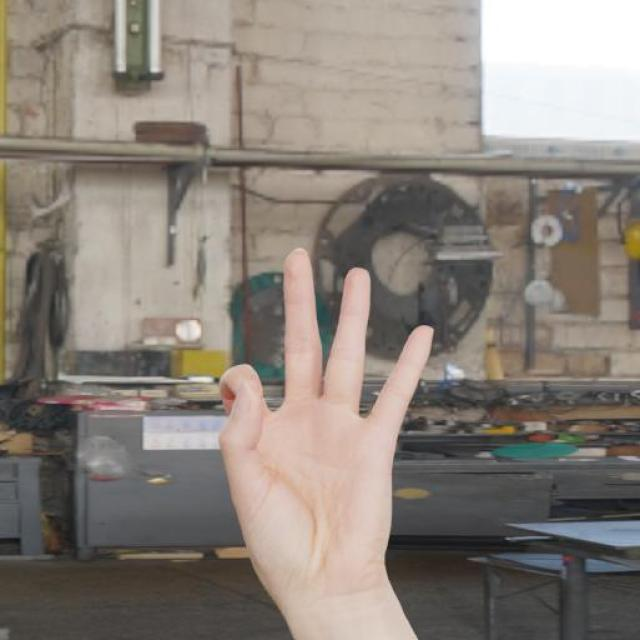F: (215, 241, 442, 574)
